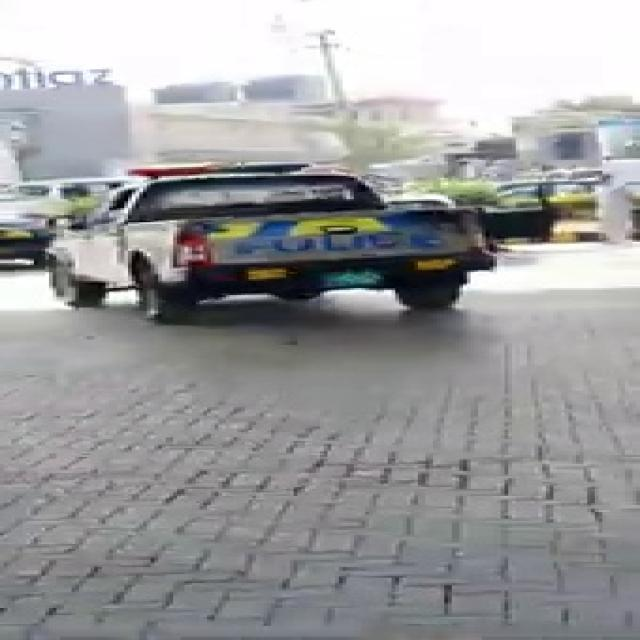police: (2, 153, 600, 332)
